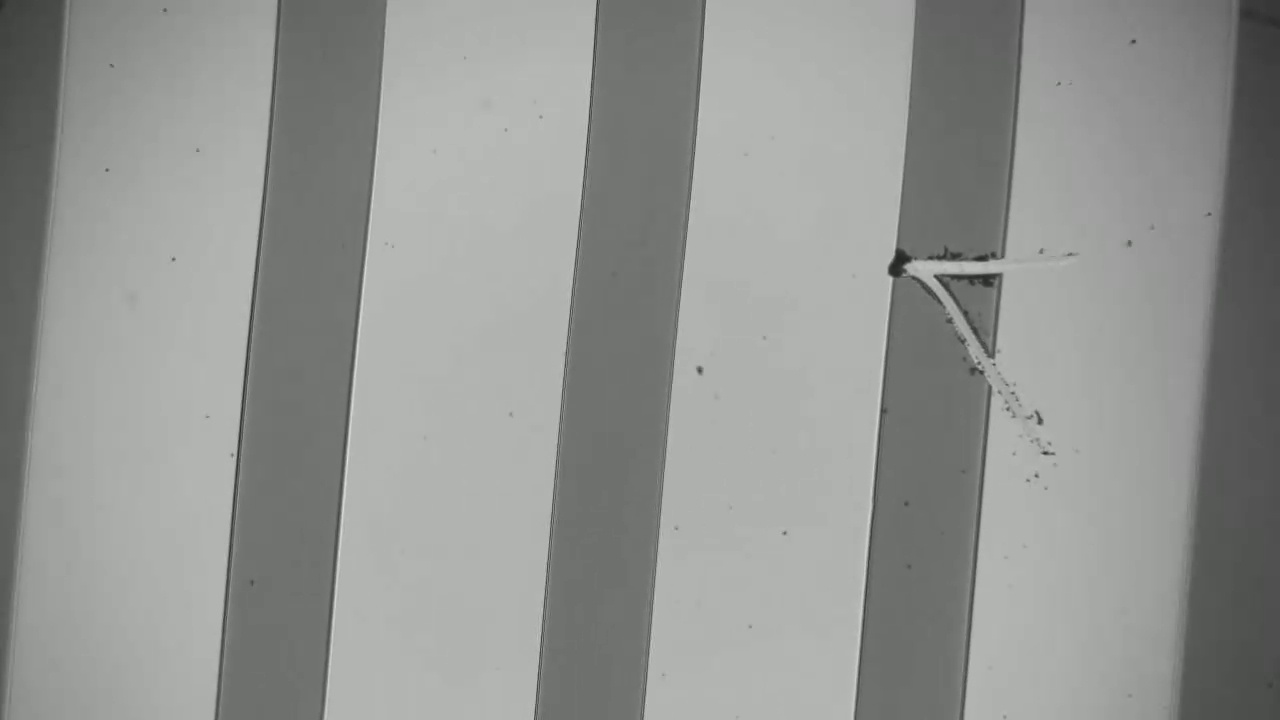Short_circuit: (870, 229, 1031, 299)
